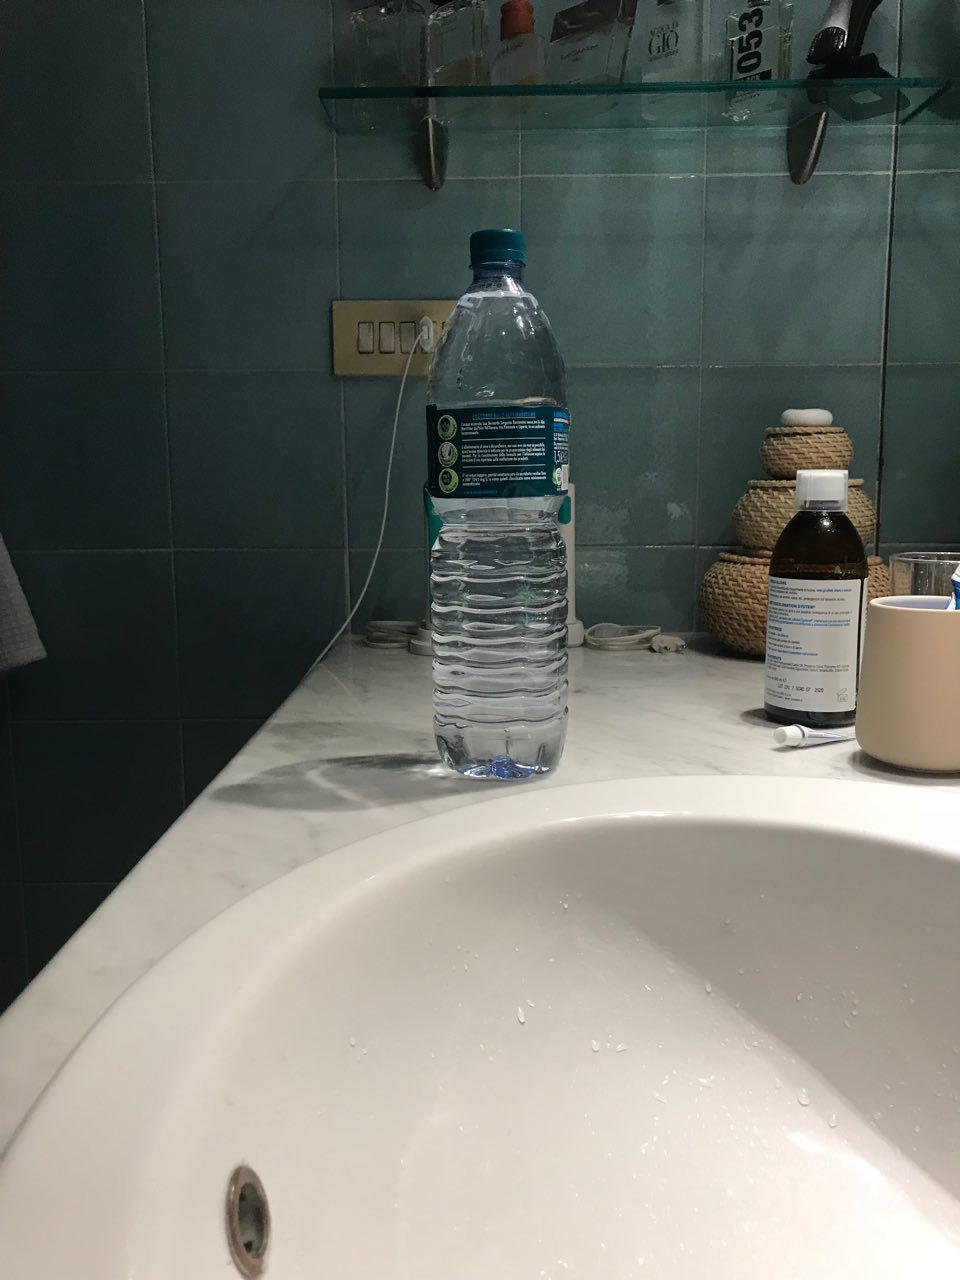san_bernardo: (425, 229, 572, 781)
